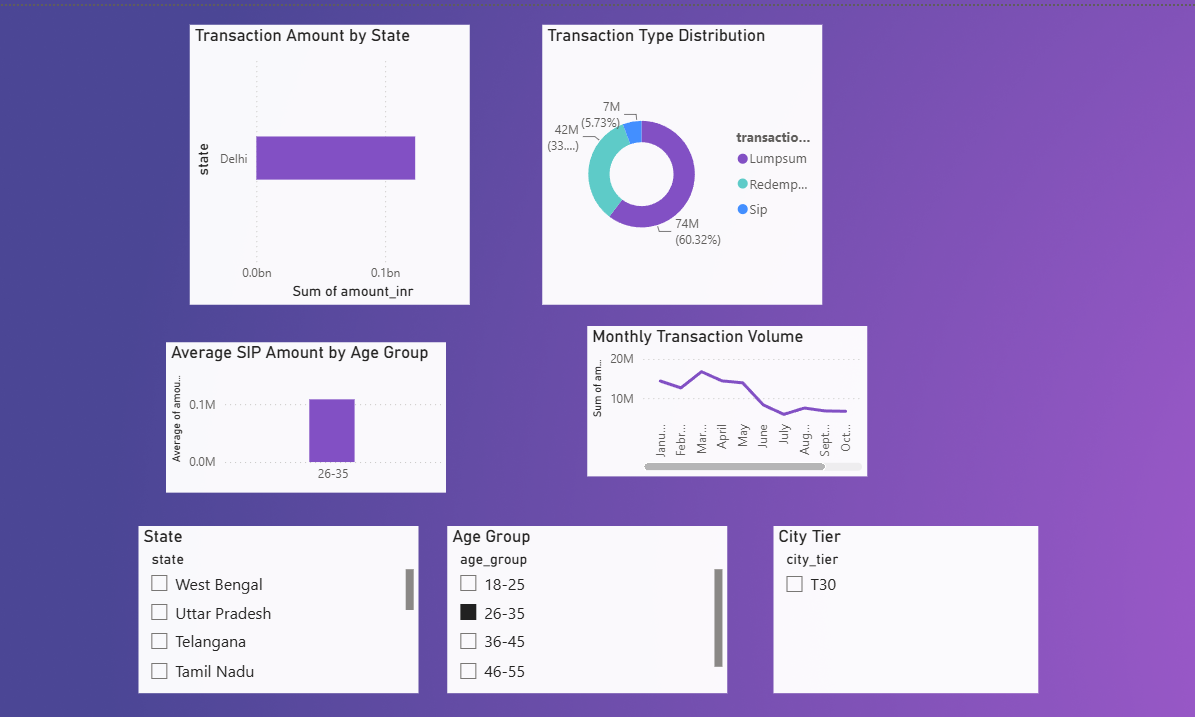

The dashboard page shown, as its layout file describes it:
{"tool":"powerbi","page":{"name":"Investor Analytics","canvas":[1280,720],"ordinal":2},"visuals":[{"type":"clusteredBarChart","title":"Transaction Amount by State","fields":{"Category":["investor_transactions_clean.state"],"Y":["Sum(investor_transactions_clean.amount_inr)"]},"box":[193.8,18.8,280,280],"z":0},{"type":"donutChart","title":"Transaction Type Distribution","fields":{"Category":["investor_transactions_clean.transaction_type"],"Y":["Sum(investor_transactions_clean.amount_inr)"]},"box":[546.2,18.8,280,280],"z":1000},{"type":"clusteredColumnChart","title":"Average SIP Amount by Age Group","fields":{"Category":["investor_transactions_clean.age_group"],"Y":["Avg(investor_transactions_clean.amount_inr)"]},"box":[170,336.2,280,150],"z":2000},{"type":"lineChart","title":"Monthly Transaction Volume","fields":{"Category":["investor_transactions_clean.transaction_date.Variation.Date Hierarchy.Month","investor_transactions_clean.transaction_date.Variation.Date Hierarchy.Day"],"Y":["Sum(investor_transactions_clean.amount_inr)"]},"box":[591.2,320,280,150],"z":3000},{"type":"slicer","title":"State","fields":{"Values":["investor_transactions_clean.state"]},"box":[142.5,520,280,167.5],"z":4000},{"type":"slicer","title":"Age Group","fields":{"Values":["investor_transactions_clean.age_group"]},"box":[451.2,520,280,167.5],"z":5000},{"type":"slicer","title":"City Tier","fields":{"Values":["investor_transactions_clean.city_tier"]},"box":[777.5,520,265,167.5],"z":6000}]}

Visuals, with their boxes in screenshot pixels (x1, y1, x2, y2):
"Transaction Amount by State" clusteredBarChart: {"left": 164, "top": 25, "right": 441, "bottom": 302}
"Transaction Type Distribution" donutChart: {"left": 513, "top": 25, "right": 790, "bottom": 302}
"Average SIP Amount by Age Group" clusteredColumnChart: {"left": 140, "top": 339, "right": 417, "bottom": 487}
"Monthly Transaction Volume" lineChart: {"left": 557, "top": 323, "right": 834, "bottom": 471}
"State" slicer: {"left": 113, "top": 521, "right": 390, "bottom": 687}
"Age Group" slicer: {"left": 419, "top": 521, "right": 696, "bottom": 687}
"City Tier" slicer: {"left": 741, "top": 521, "right": 1004, "bottom": 687}
